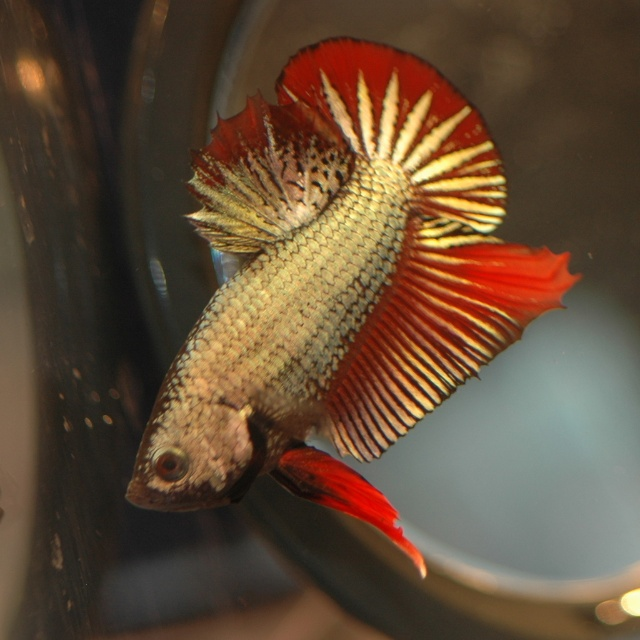Fish: (126, 33, 579, 577)
